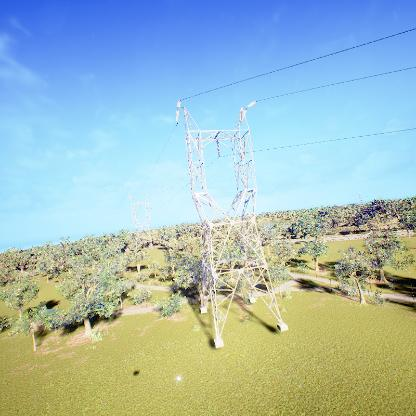tower: (176, 100, 289, 351)
